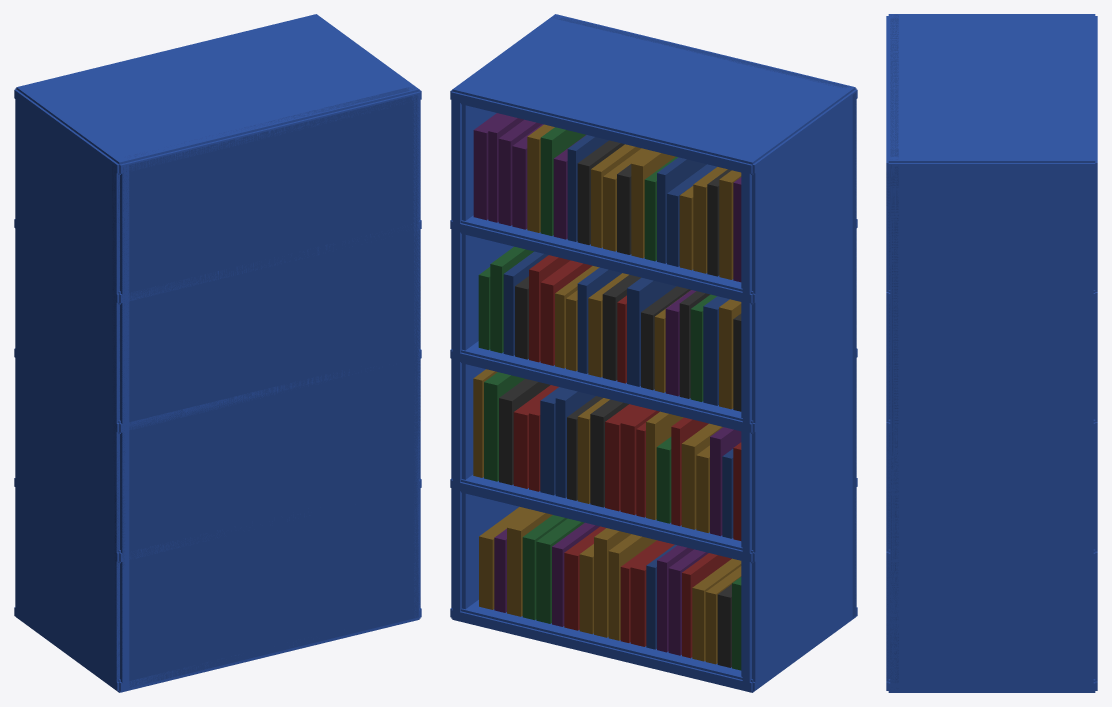
The model's file is mushroom_bookcase_v0.glb.
The picture shows the model from 3 angles, left to right: view 1: azimuth 30°, elevation 25°; view 2: azimuth 150°, elevation 25°; view 3: azimuth 270°, elevation 25°; orthographic projection.
Visible parts, largest first — view 1: mushroom_bookcase_v0; view 2: mushroom_bookcase_v0; view 3: mushroom_bookcase_v0.
Boxes of the visible parts, x1=… form: mushroom_bookcase_v0: x1=14, y1=14, x2=421, y2=692; mushroom_bookcase_v0: x1=450, y1=14, x2=857, y2=692; mushroom_bookcase_v0: x1=886, y1=14, x2=1097, y2=692.
Size of the model in its own units: 1.5 by 2.5 by 0.9.
